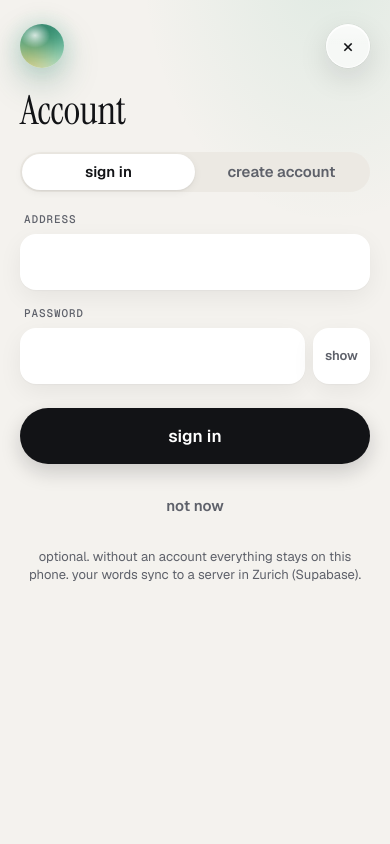
Test case: Account › renders the mapped error copy
Type "a@b.ch" into the field labelled "address".
click(195, 262); type("a@b.ch")  # box x1=20 y1=234 x2=370 y2=290
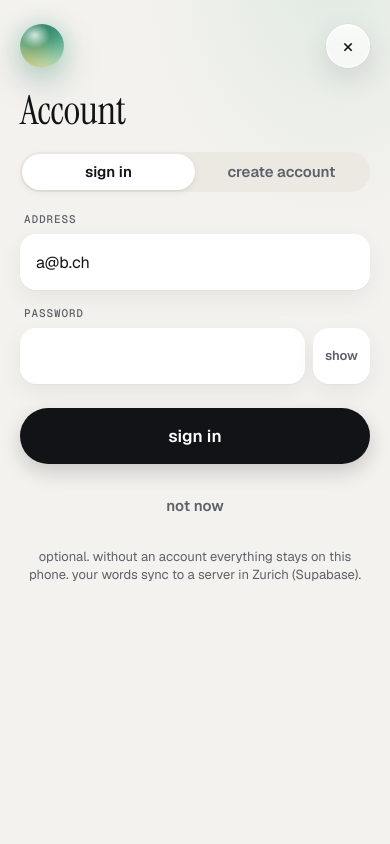
Type "12345678" into the password field labelled "password".
click(162, 356); type("12345678")  # box x1=20 y1=328 x2=305 y2=384
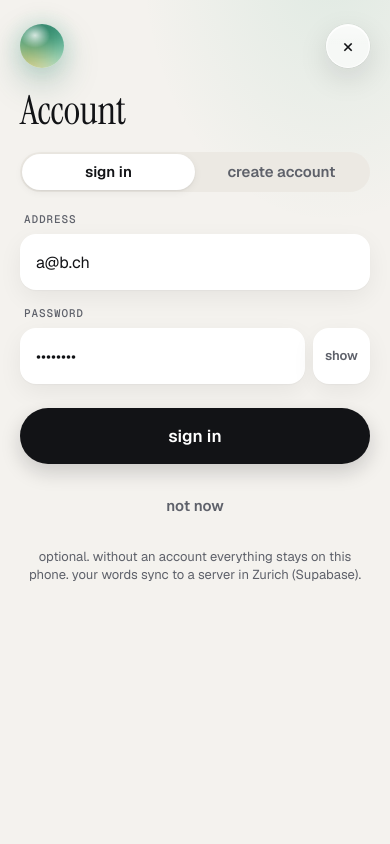
Click the button "sign in".
click(195, 436)  # box x1=20 y1=408 x2=370 y2=464
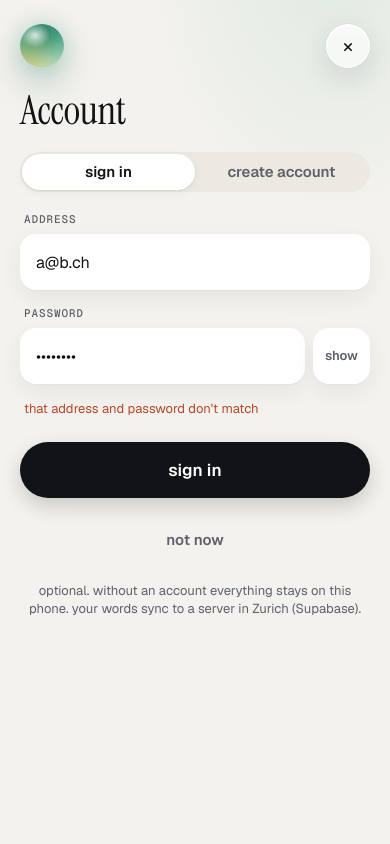
Result: the message reads "that address and password don't match" at x1=24 y1=400 x2=259 y2=417
